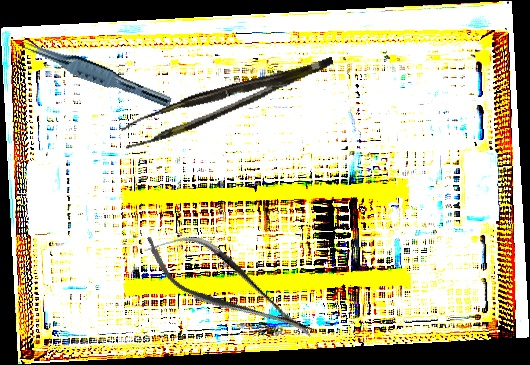Micro Scissor: (132, 213, 326, 361)
Tissue Forceps: (117, 56, 341, 150), (16, 36, 176, 109)
